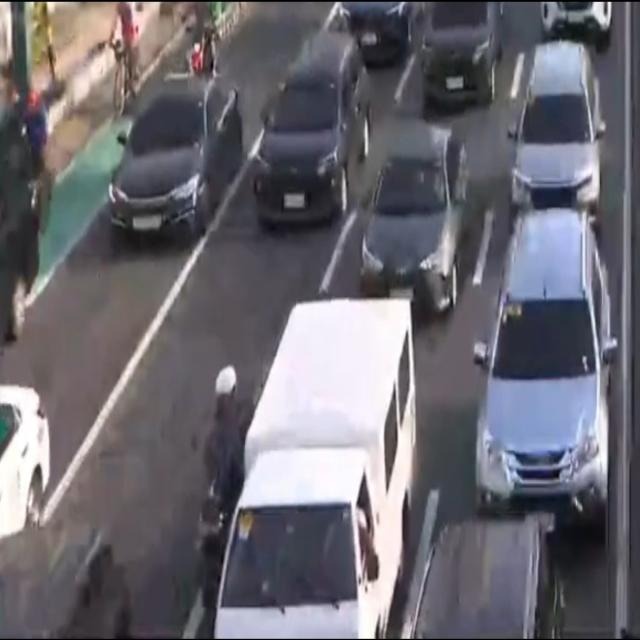Motorcycle: (196, 361, 252, 618)
Pick-up: (212, 290, 426, 640)
SUV: (471, 209, 616, 521), (253, 34, 369, 236), (414, 521, 564, 640), (510, 43, 604, 220), (417, 0, 506, 114), (335, 0, 411, 71)
Sedan: (106, 74, 245, 255), (356, 130, 469, 318), (0, 377, 52, 524)
